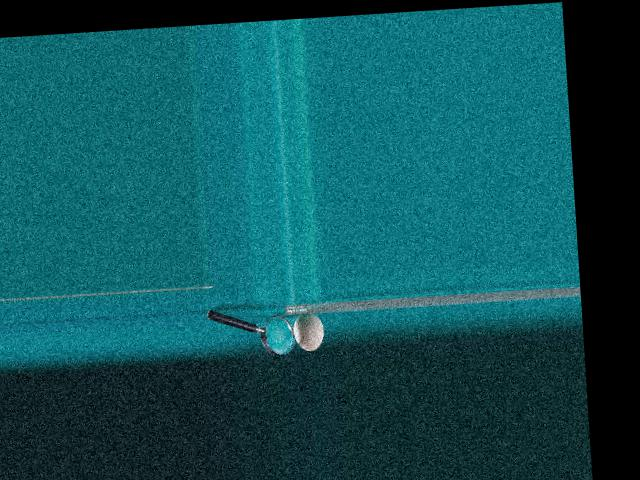egg: (292, 311, 325, 351)
